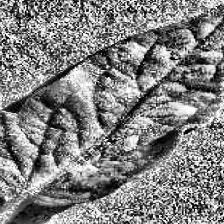leaf mold: (32, 0, 224, 209)
